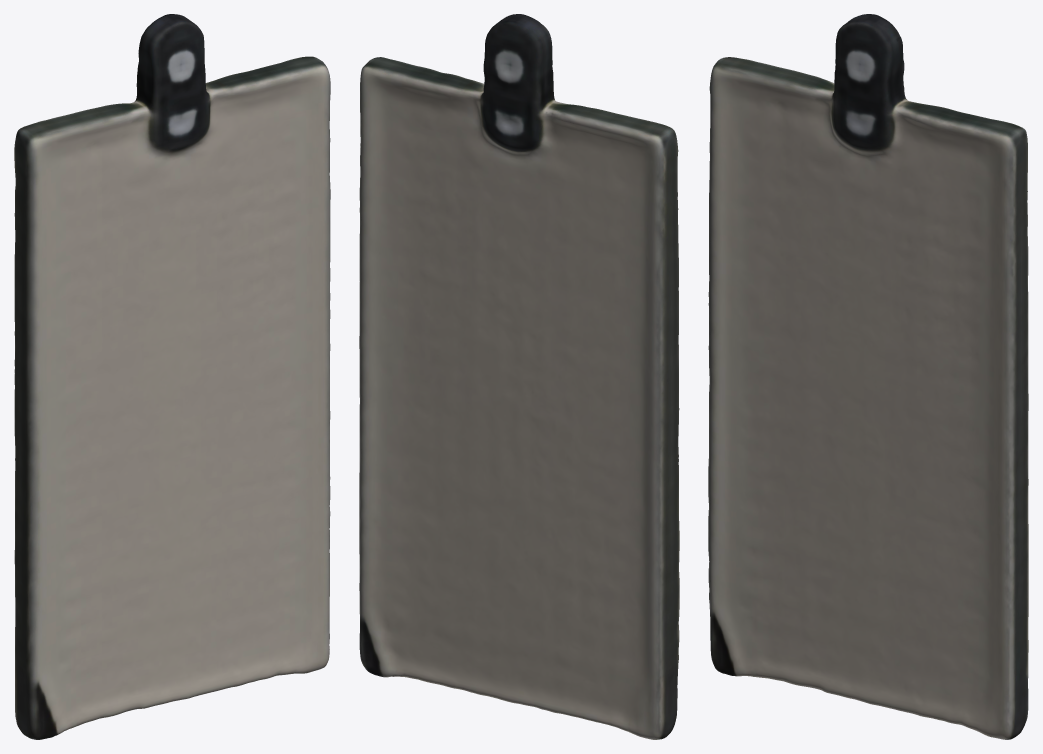
Rendered from 792f2f40a442_empty_name_tag__3d_.fbx.
The picture shows the model from 3 angles, left to right: view 1: azimuth 30°, elevation 25°; view 2: azimuth 150°, elevation 25°; view 3: azimuth 330°, elevation 25°; orthographic projection.
Visible parts, largest first — view 1: high_poly; view 2: high_poly; view 3: high_poly.
Part boxes in pixels (<box>): high_poly: <box>14,14,330,739</box>; high_poly: <box>359,14,679,739</box>; high_poly: <box>708,14,1028,739</box>.
Bounding box in the file's own units: 46.73 × 100 × 5.81.
